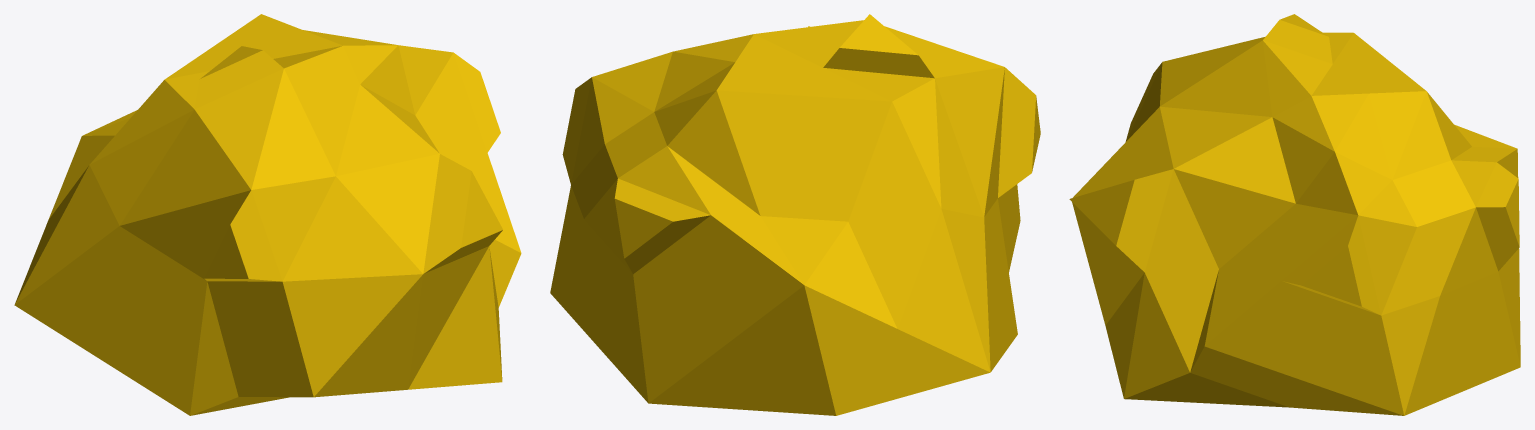
File: Gold2.fbx
3 views of the same model, side by side, from view 1: azimuth 30°, elevation 25°; view 2: azimuth 150°, elevation 25°; view 3: azimuth 270°, elevation 25° (orthographic). The views are drawn at different scales.
Parts seen in each view (by area): view 1: Rock2; view 2: Rock2; view 3: Rock2.
Boxes of the visible parts, x1,y1,x2,y2 form: Rock2: (14,14,521,415); Rock2: (550,14,1040,415); Rock2: (1069,14,1520,415).
Bounding box in the file's own units: 111 × 75.48 × 102.
